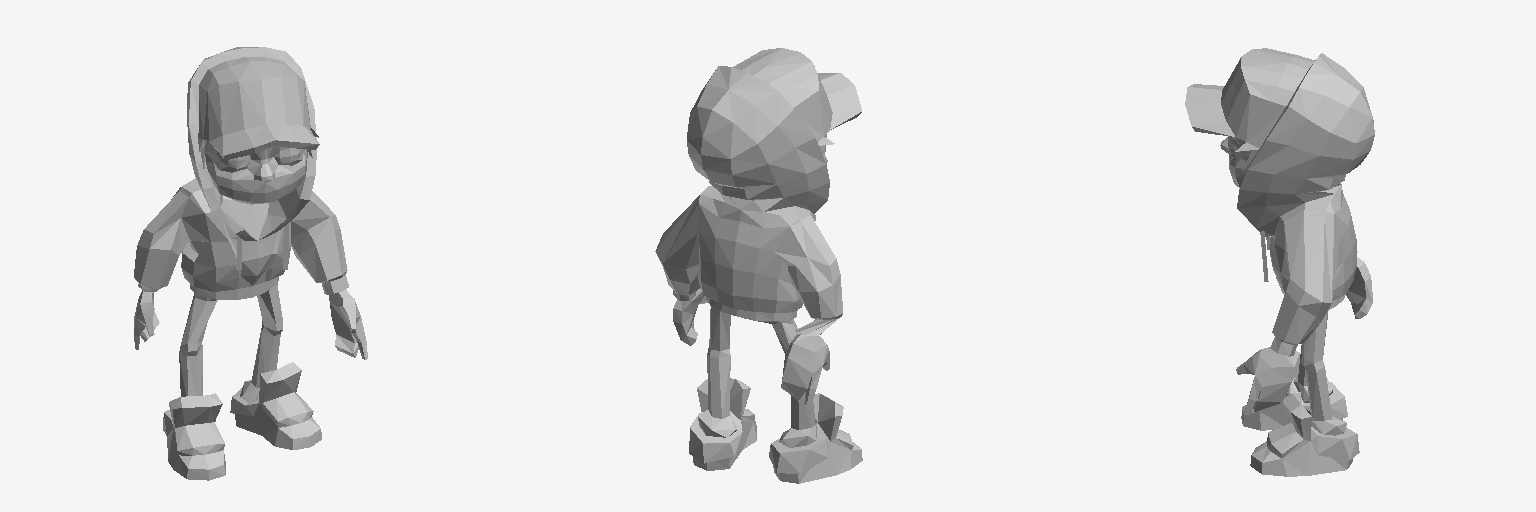
File: Jake.obj
3 renders of one model, left to right at view 1: azimuth 30°, elevation 25°; view 2: azimuth 150°, elevation 25°; view 3: azimuth 270°, elevation 25°, orthographic.
Visible parts, largest first — view 1: Object_4.002; view 2: Object_4.002; view 3: Object_4.002.
Part boxes in pixels (x1,y1,x2,y2): Object_4.002: (134,47,367,480); Object_4.002: (655,48,862,483); Object_4.002: (1185,48,1374,476).
Size of the model in its own units: 5.68 by 11.07 by 4.9.